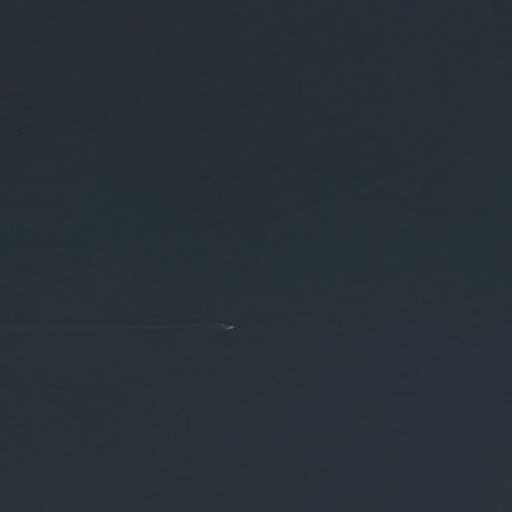ship: (223, 323, 235, 332)
